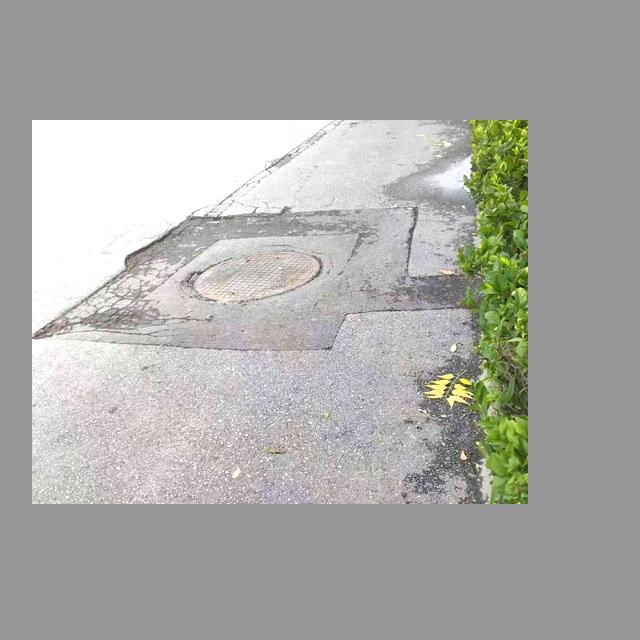circle: (94, 222, 407, 346)
